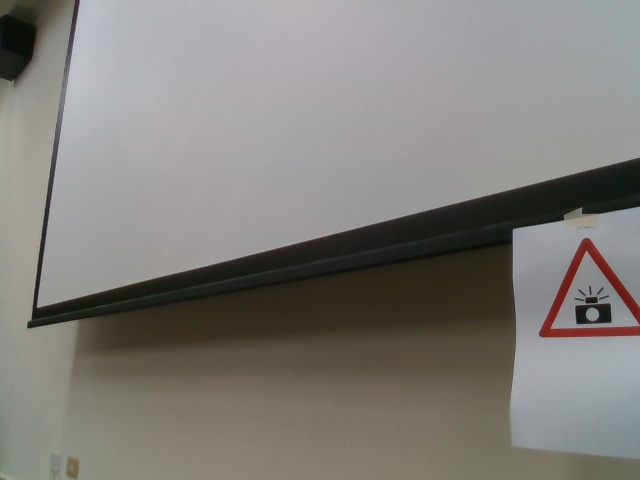camera: (535, 236, 640, 341)
